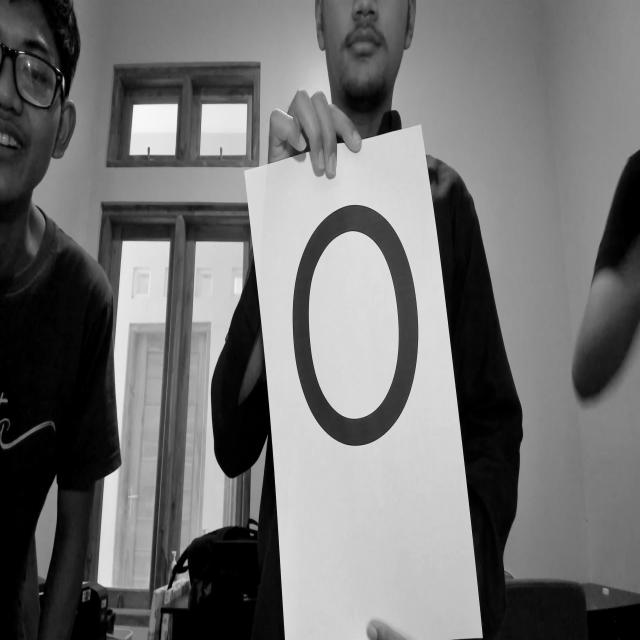o: (266, 185, 454, 514)
